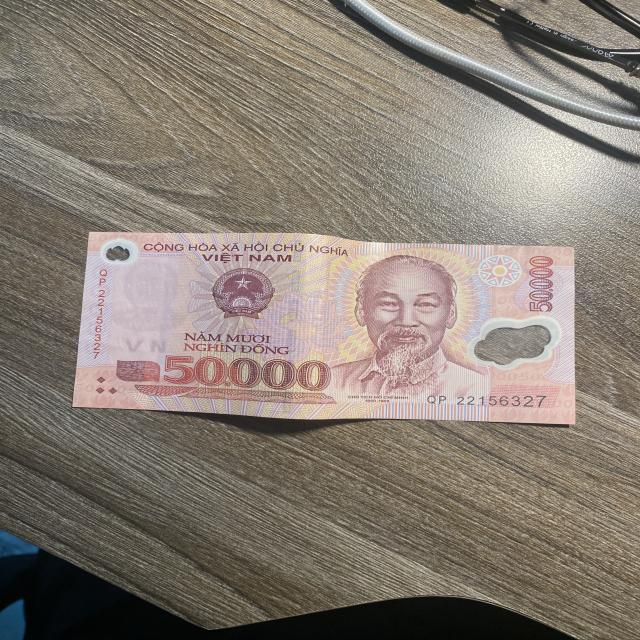50 000 VND: (71, 231, 580, 428)
